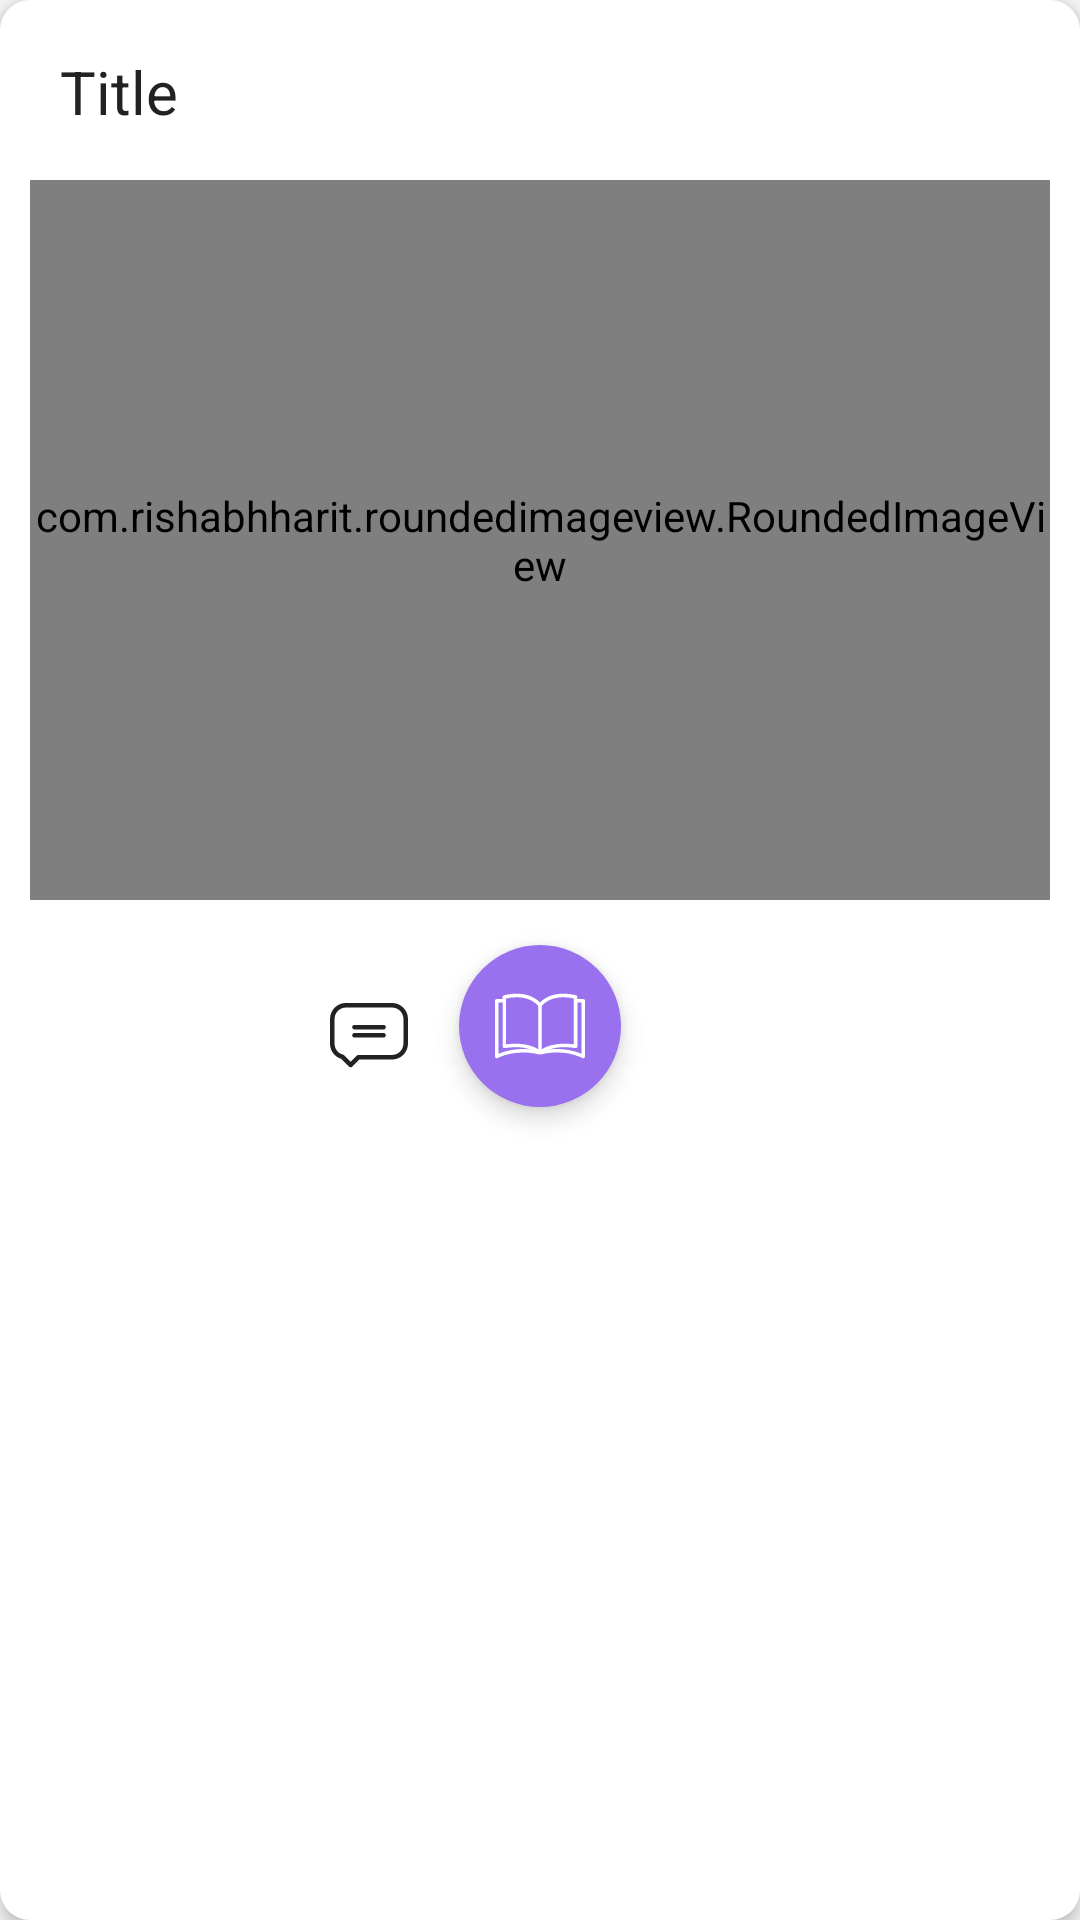

Icon bounding boxes for this 1080px×1920px phone screenshot, format (x1, y1, x2, y2):
book: (459, 945, 621, 1107)
comment: (330, 1003, 408, 1068)
